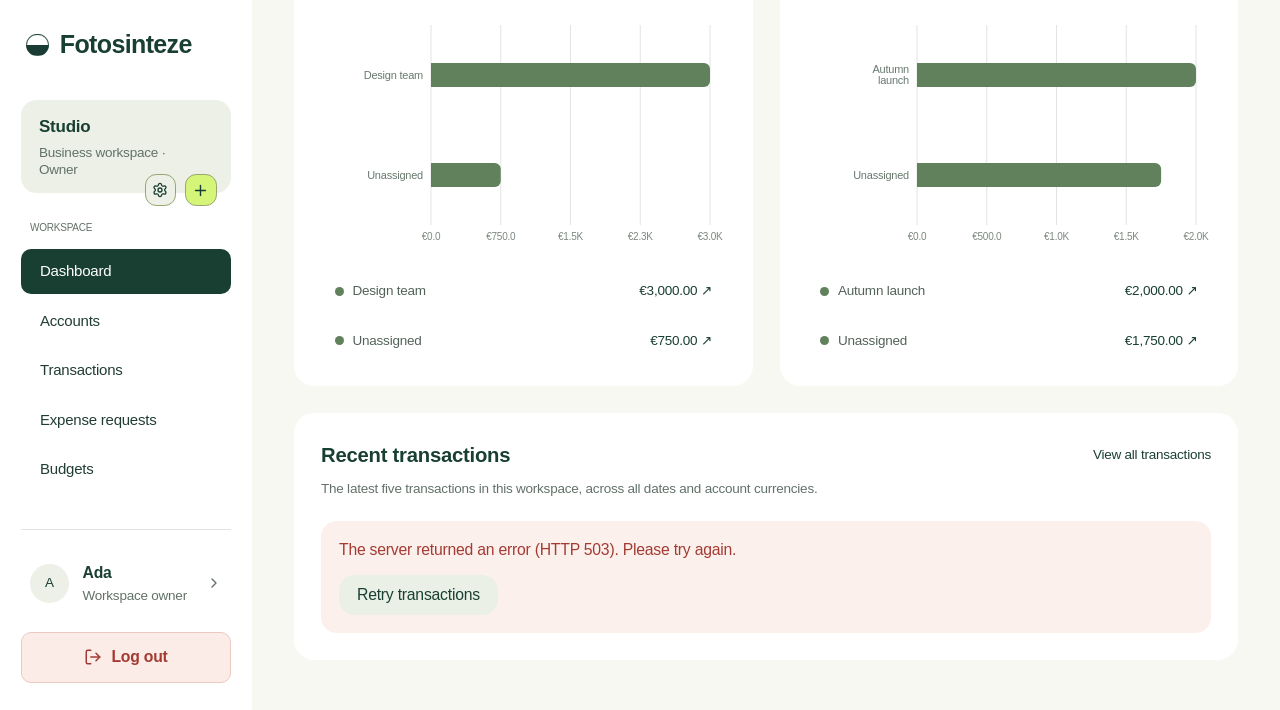
Test: retains working totals and charts if recent transactions fail, and supports retry
(page scrolled)
Click the button "Retry transactions": (418, 595) 339,574 -> 498,615
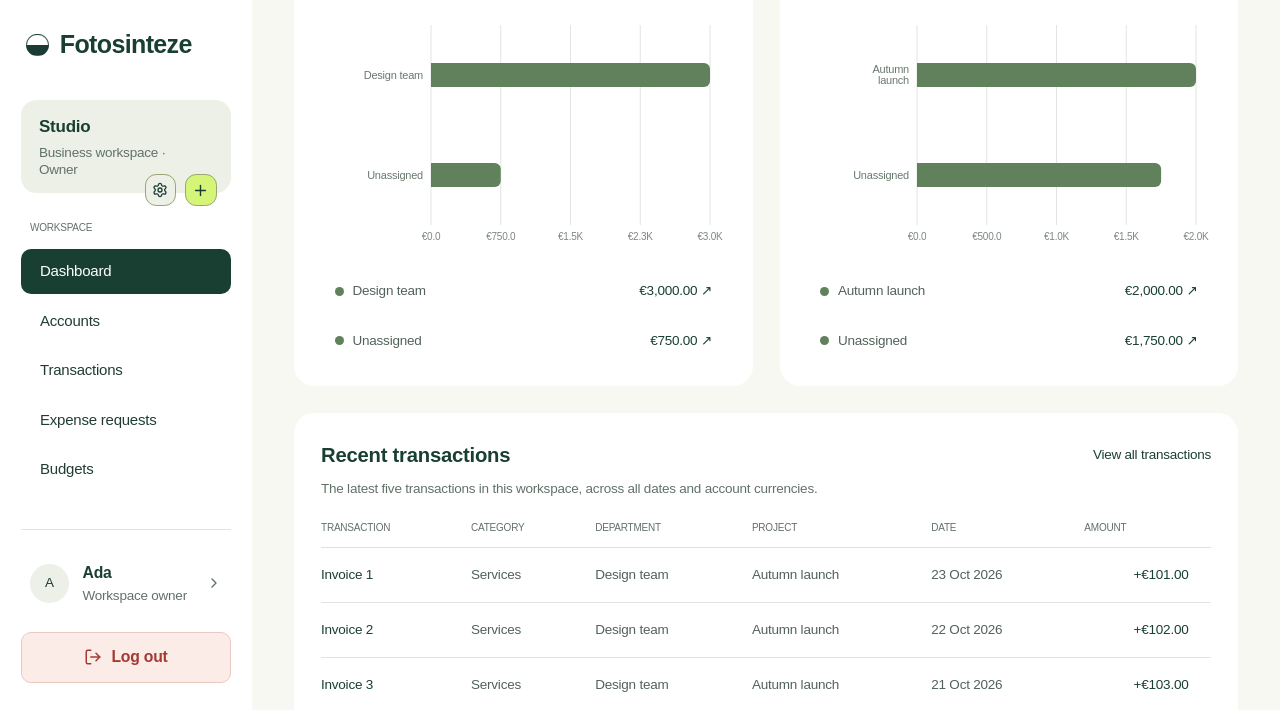
Check: the text "Invoice 1" is shown, box 321,548 -> 471,603
